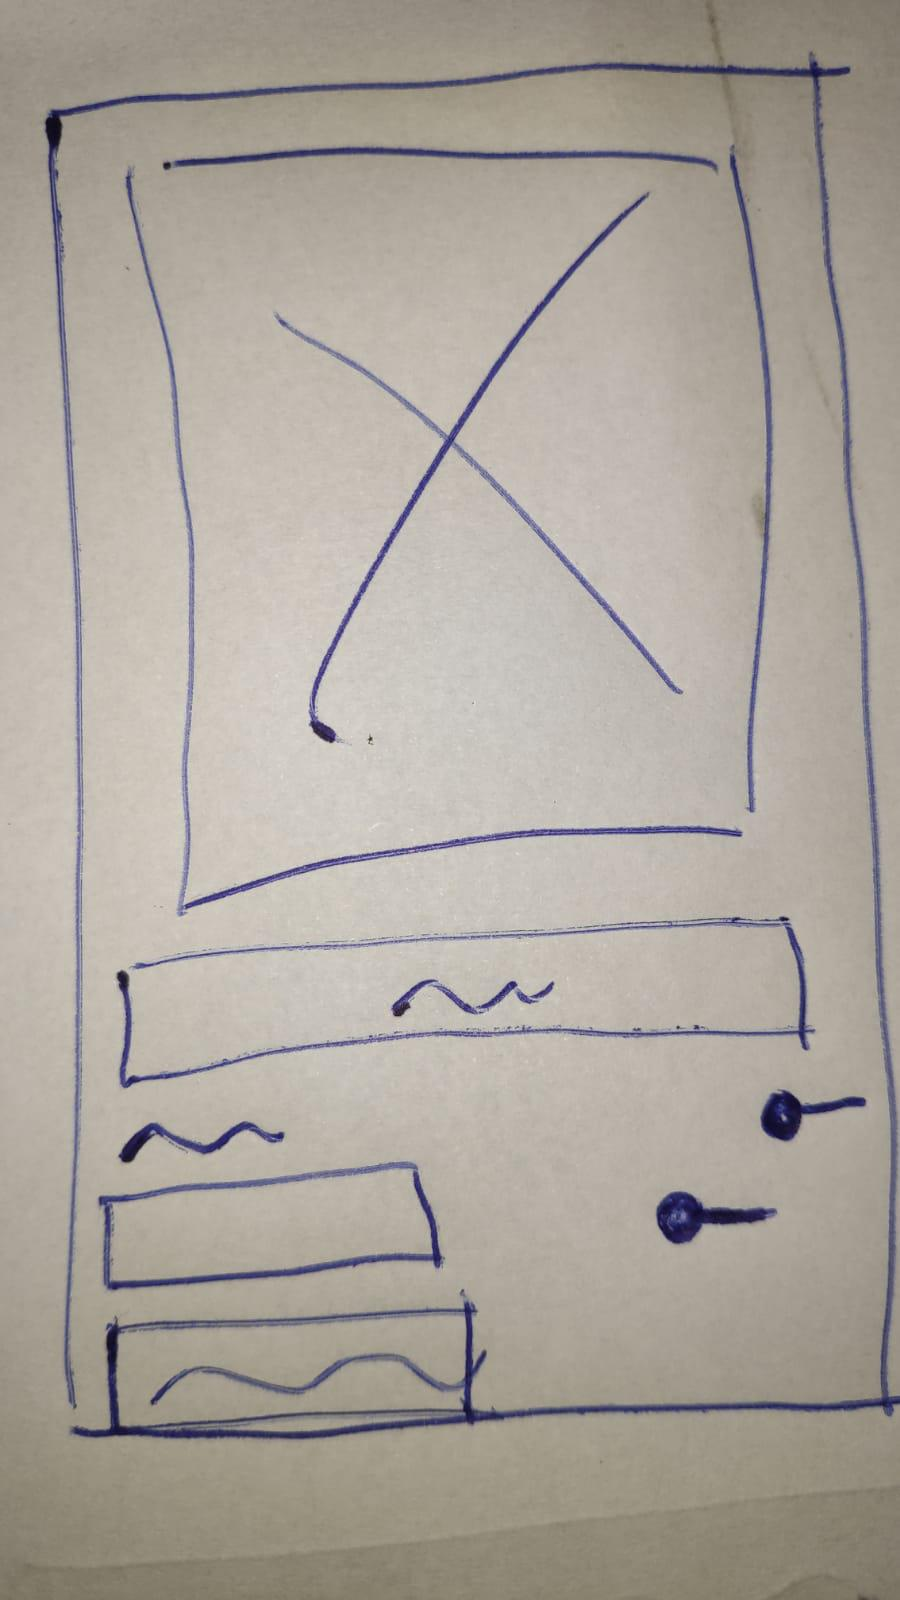Button: (116, 918, 808, 1090), (106, 1307, 476, 1432)
Screen: (45, 58, 895, 1441)
Switch: (117, 1090, 868, 1165), (653, 1190, 778, 1244)
TextBox: (99, 1160, 442, 1290)
